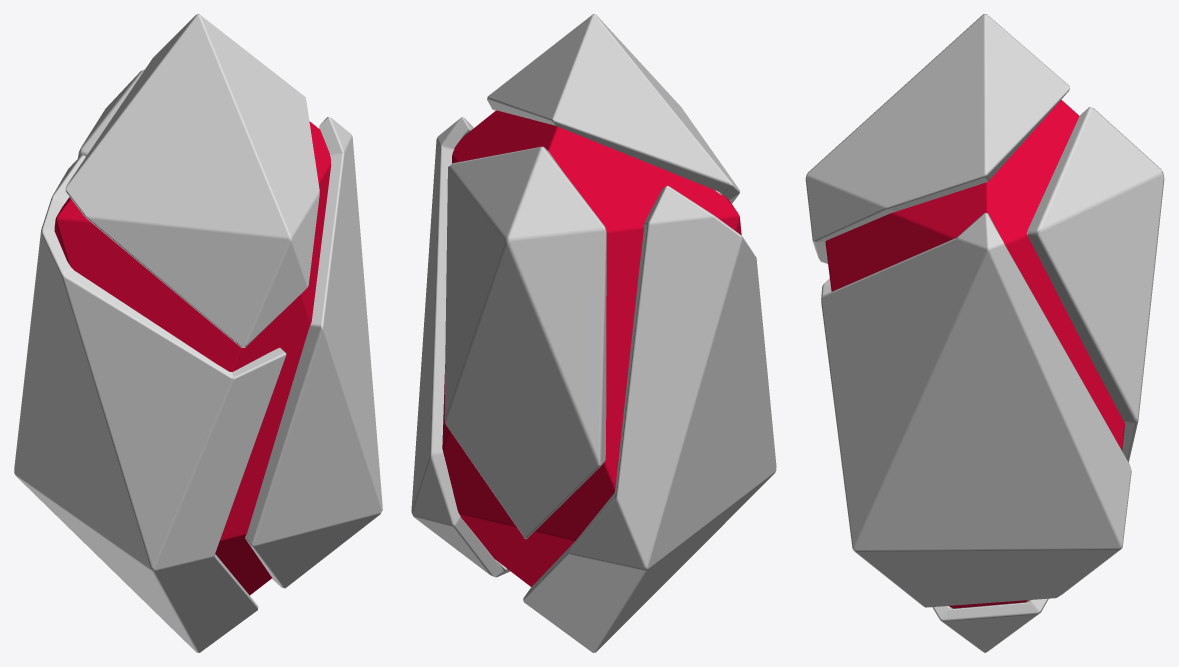
Rendered from gem_2.fbx.
The picture shows the model from 3 angles, left to right: view 1: azimuth 30°, elevation 25°; view 2: azimuth 150°, elevation 25°; view 3: azimuth 270°, elevation 25°; orthographic projection.
Visible parts, largest first — view 1: Cube.007, Cube.Red; view 2: Cube.007, Cube.Red; view 3: Cube.007, Cube.Red.
Boxes of the visible parts, left/top/right/bottom form: Cube.007: left=14, top=14, right=382, bottom=652; Cube.Red: left=54, top=121, right=331, bottom=595; Cube.007: left=411, top=14, right=776, bottom=652; Cube.Red: left=442, top=110, right=741, bottom=586; Cube.007: left=805, top=14, right=1164, bottom=652; Cube.Red: left=825, top=99, right=1124, bottom=608.
Bounding box in the file's own units: 213 × 421 × 215.
